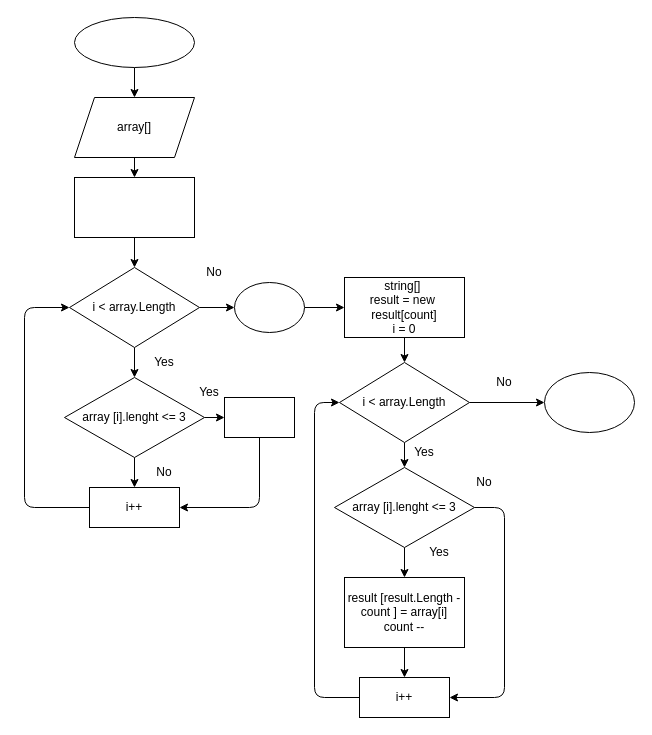
Image size: 652x735. Some labels were removed from this diagram. Each missing label, with the centre of its shape:
"count ++" goes at point 259,417.
"i = 0 count = o" goes at point 134,207.
"return count" goes at point 269,307.
"return result" goes at point 589,402.
"Start" goes at point 134,42.
